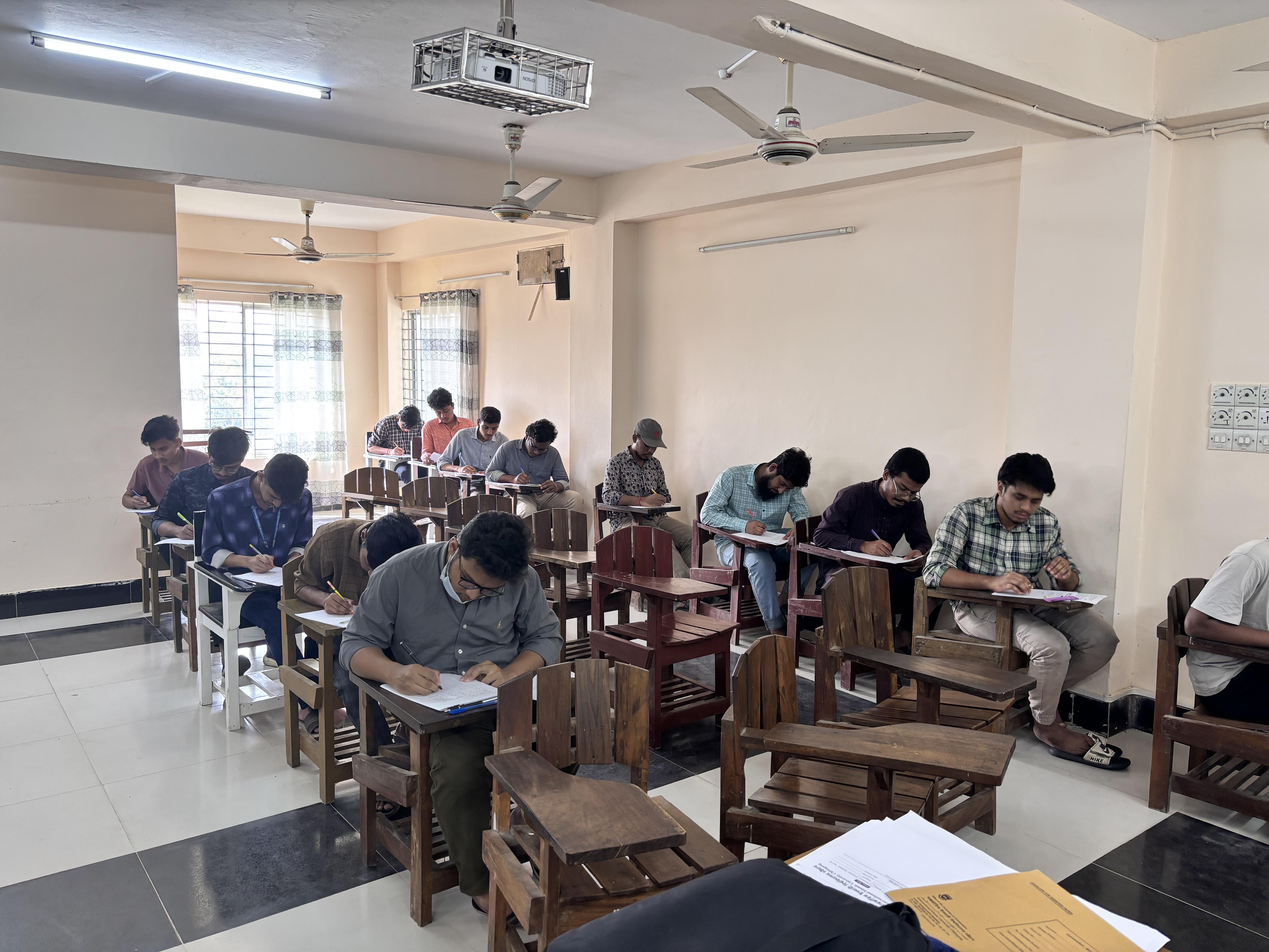no_cheating: (363, 511, 568, 766), (941, 447, 1089, 648), (695, 428, 832, 597), (821, 431, 942, 599), (203, 457, 308, 612), (293, 504, 414, 624), (601, 416, 683, 540), (171, 427, 253, 541), (123, 412, 191, 527), (504, 414, 575, 508), (413, 383, 471, 471), (455, 404, 512, 471), (368, 403, 430, 464)
